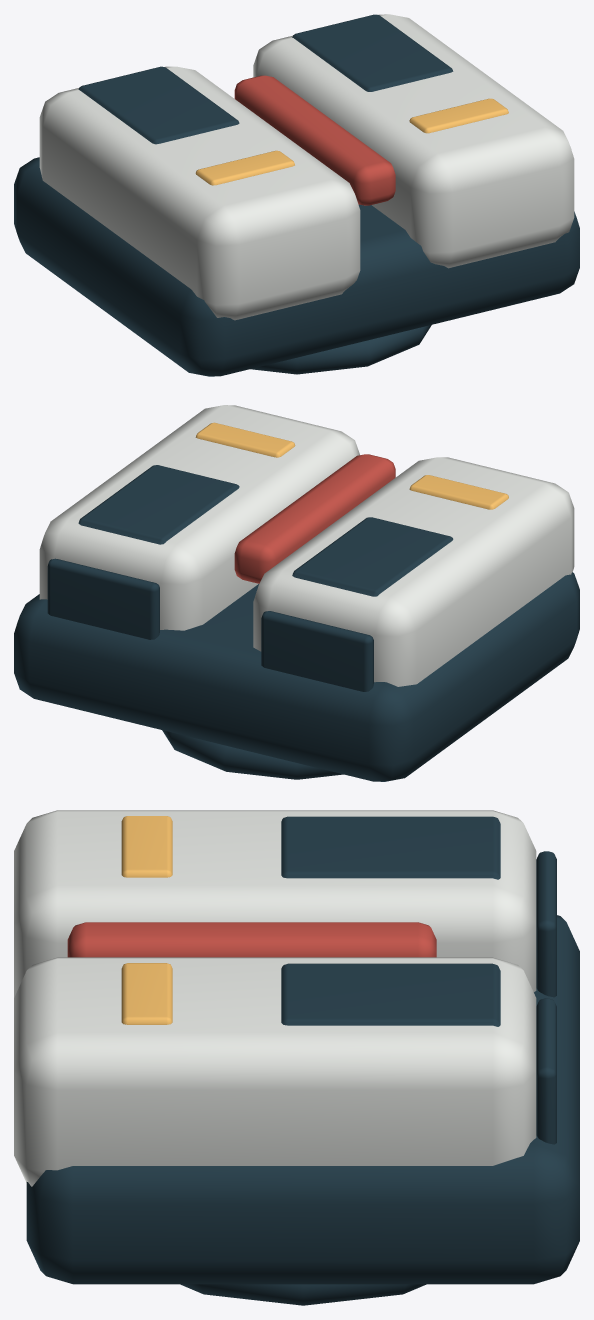
File: missile.glb
The picture shows the model from 3 angles, top to bottom: view 1: azimuth 30°, elevation 25°; view 2: azimuth 150°, elevation 25°; view 3: azimuth 270°, elevation 25°; orthographic projection. The views are drawn at different scales.
Visible parts, largest first — view 1: WeaponArmor, RotationBearing; view 2: WeaponArmor, RotationBearing; view 3: WeaponArmor, RotationBearing.
Boxes of the visible parts, <box> form: WeaponArmor: <box>14,14,579,376</box>; RotationBearing: <box>250,325,431,374</box>; WeaponArmor: <box>14,405,579,781</box>; RotationBearing: <box>162,730,343,779</box>; WeaponArmor: <box>14,810,579,1284</box>; RotationBearing: <box>180,1284,426,1305</box>.
Bounding box in the file's own units: 1.26 × 0.6675 × 1.11.
